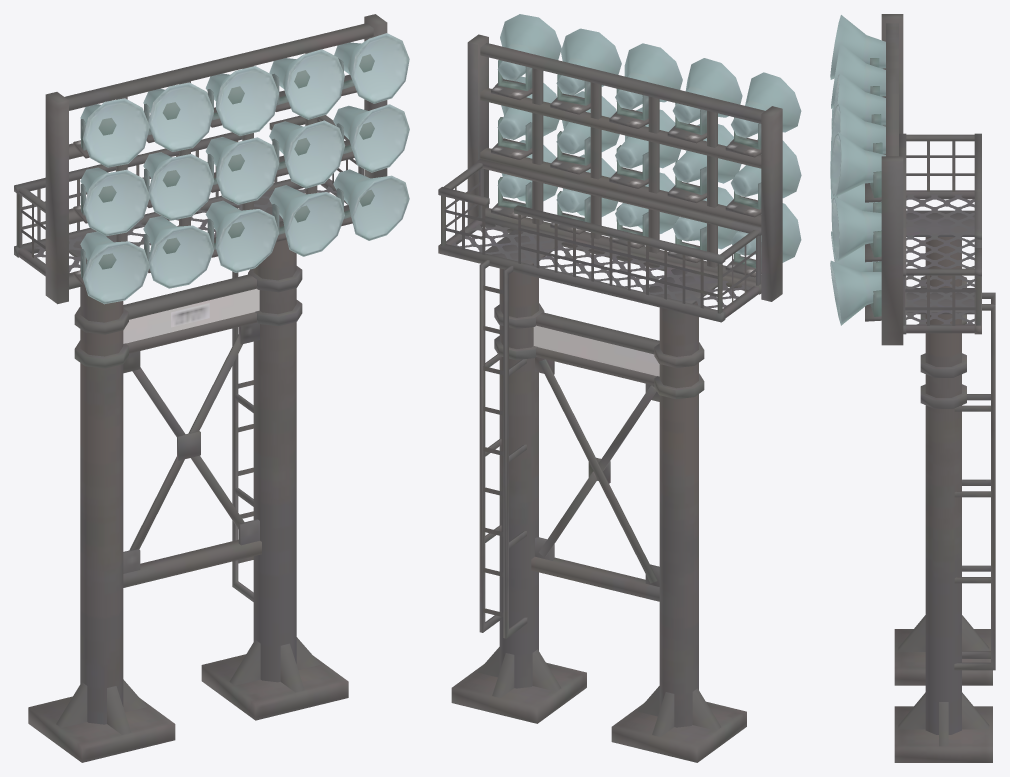
3 renders of one model, left to right at view 1: azimuth 30°, elevation 25°; view 2: azimuth 150°, elevation 25°; view 3: azimuth 270°, elevation 25°, orthographic. The views are drawn at different scales.
Bounding box in the file's own units: 20 × 39.65 × 9.5.
1 material, 1 textured.
